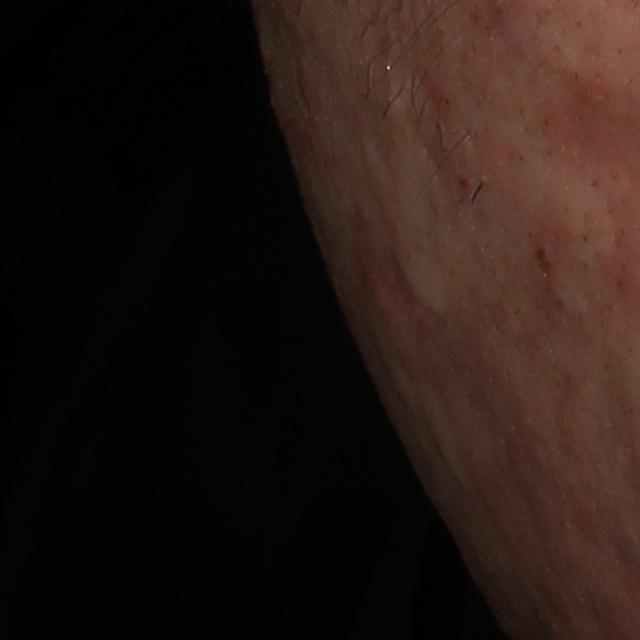papule: (361, 264, 398, 317)
